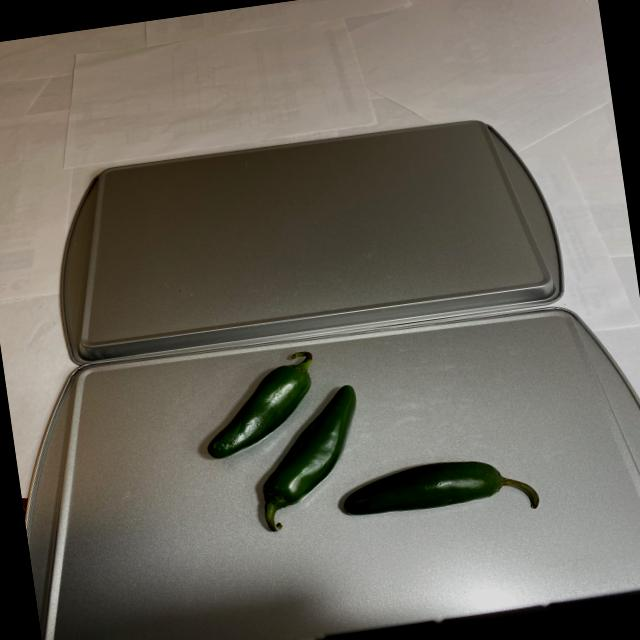chilli: (192, 314, 550, 564)
